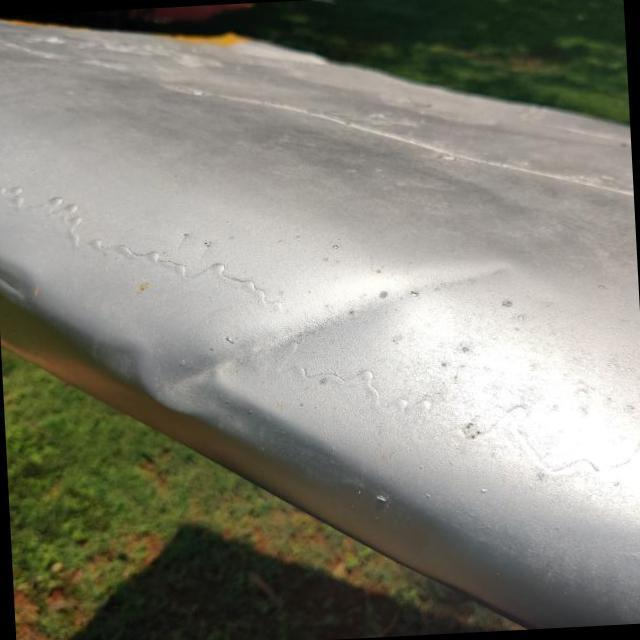Dent: (92, 239, 490, 479), (0, 247, 49, 324)
